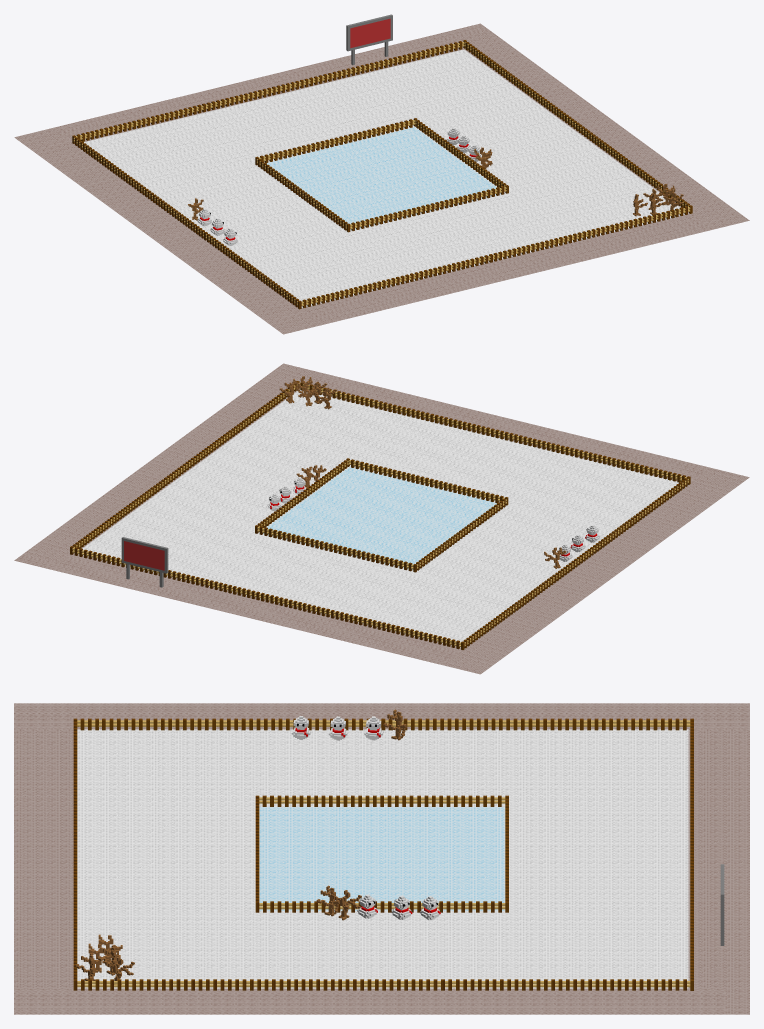
File: Map6.fbx
3 views of the same model, one above another, from view 1: azimuth 30°, elevation 25°; view 2: azimuth 150°, elevation 25°; view 3: azimuth 270°, elevation 25° (orthographic). The views are drawn at different scales.
Parts seen in each view (by area): view 1: pPlane1, fence32, fence48, Sign; view 2: pPlane1, fence32, fence48, Sign; view 3: pPlane1, fence32, fence48.
Part boxes in pixels (x1,y1,x2,y2): pPlane1: (14,23,749,334); fence32: (72,40,692,309); fence48: (255,118,508,232); Sign: (346,14,392,65); pPlane1: (14,363,749,674); fence32: (70,381,690,649); fence48: (255,458,508,572); Sign: (121,537,168,587); pPlane1: (14,703,749,1014); fence32: (73,718,693,990); fence48: (255,795,508,912).
Size of the model in its own units: 60 by 4.91 by 60.
